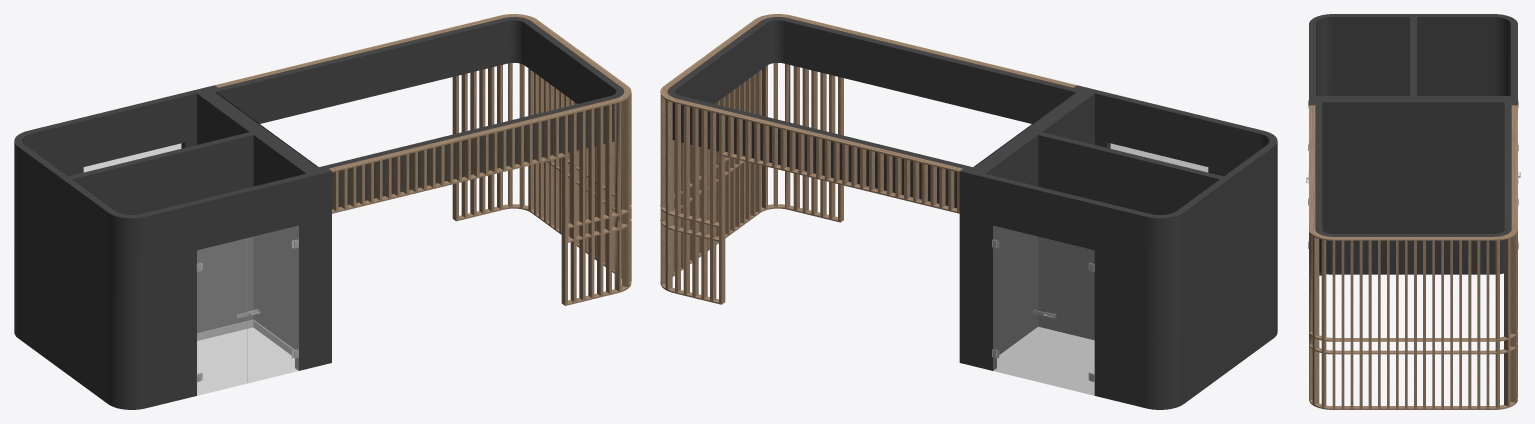
File: meeting.glb
3 renders of one model, left to right at view 1: azimuth 30°, elevation 25°; view 2: azimuth 150°, elevation 25°; view 3: azimuth 270°, elevation 25°, orthographic. The views are drawn at different scales.
Parts seen in each view (by area): view 1: PB_Benchtop, Door_01_Left, Door_01_Right; view 2: PB_Benchtop, Door_02__Left, Door_02_Right; view 3: PB_Benchtop.
Part boxes in pixels (x1=…): PB_Benchtop: x1=14, y1=14, x2=631, y2=409; Door_01_Left: x1=196, y1=238, x2=248, y2=395; Door_01_Right: x1=247, y1=225, x2=298, y2=383; PB_Benchtop: x1=660, y1=14, x2=1277, y2=409; Door_02__Left: x1=992, y1=225, x2=1043, y2=383; Door_02_Right: x1=1043, y1=238, x2=1094, y2=395; PB_Benchtop: x1=1309, y1=14, x2=1517, y2=409.
Bounding box in the file's own units: 7.66 × 2.7 × 3.08.
6 materials, 2 textured.
